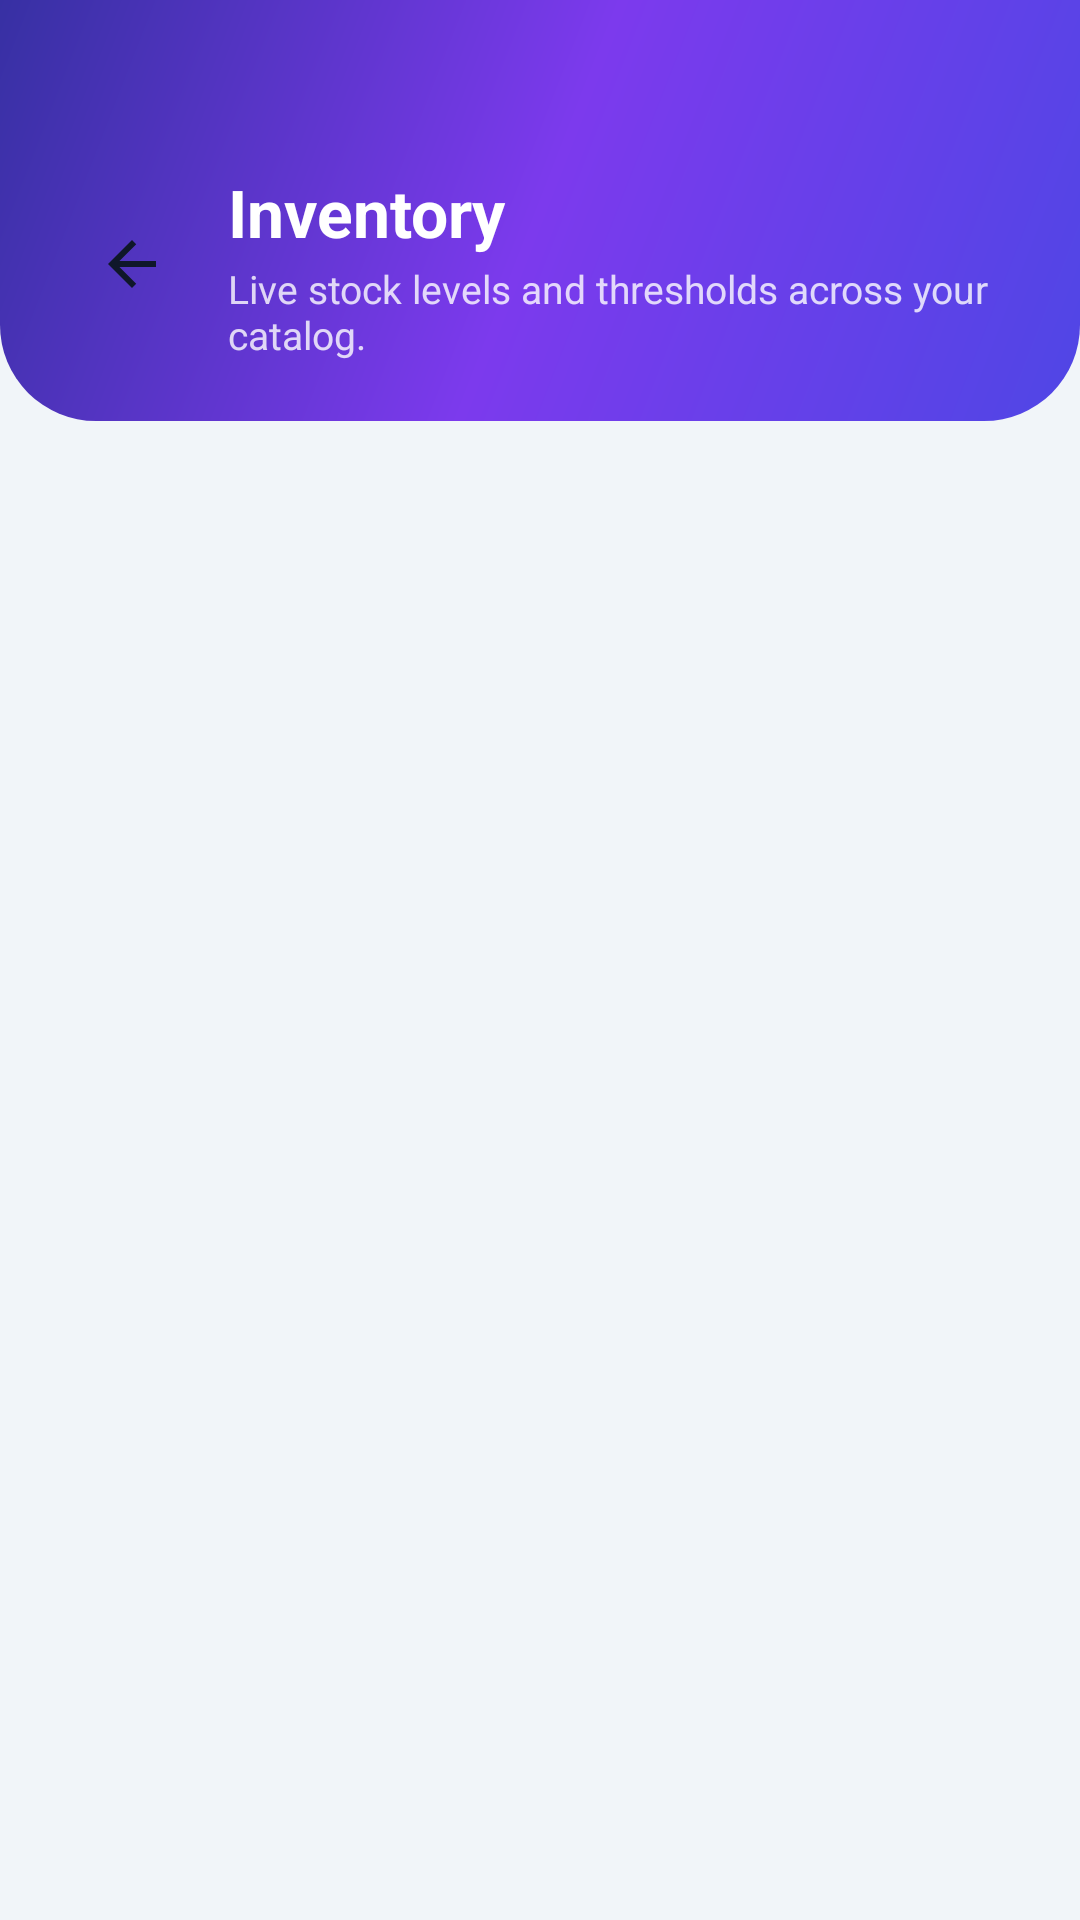

Screen size 1080×1920. Icon name, then its box in pixels as Rect(x1, y1, x2, y2):
Back: Rect(108, 240, 156, 288)
